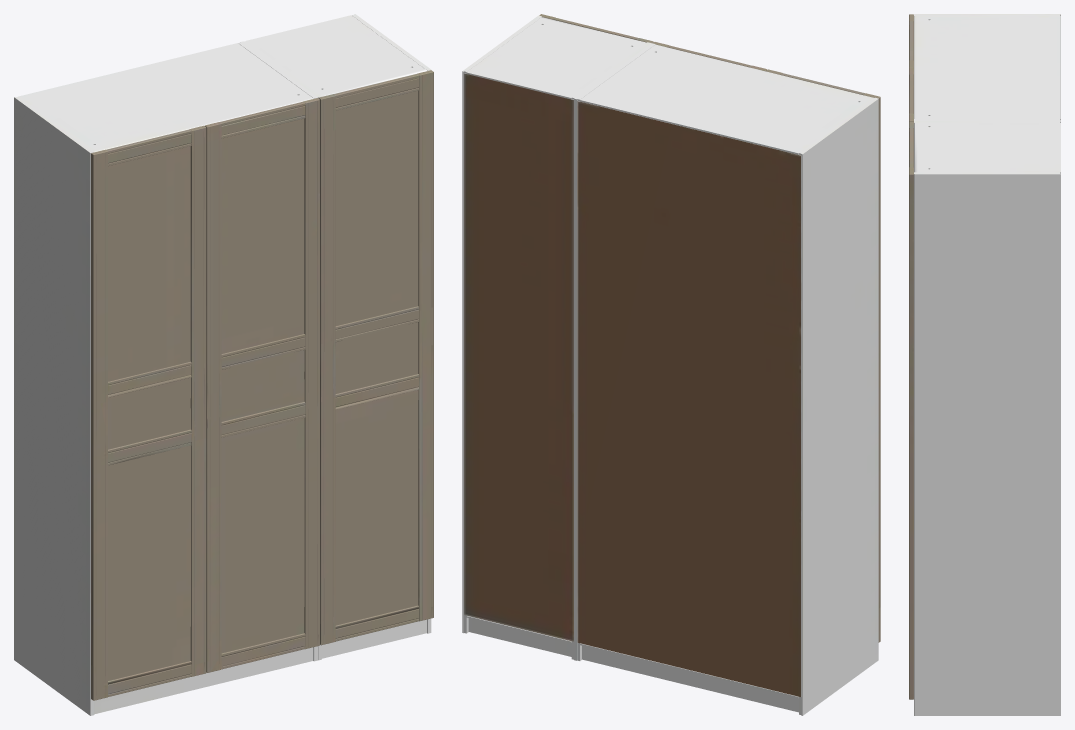
The picture shows the model from 3 angles, left to right: view 1: azimuth 30°, elevation 25°; view 2: azimuth 150°, elevation 25°; view 3: azimuth 270°, elevation 25°; orthographic projection. The views are drawn at different scales.
Visible parts, largest first — view 1: 39500681_wardrobe_combination:1.001; view 2: 39500681_wardrobe_combination:1.001; view 3: 39500681_wardrobe_combination:1.001.
Boxes of the visible parts, x1=… form: 39500681_wardrobe_combination:1.001: x1=14, y1=14, x2=433, y2=715; 39500681_wardrobe_combination:1.001: x1=462, y1=14, x2=880, y2=715; 39500681_wardrobe_combination:1.001: x1=909, y1=14, x2=1060, y2=715.
Size of the model in its own units: 1.5 by 2.36 by 0.6.
1 material, 1 textured.
